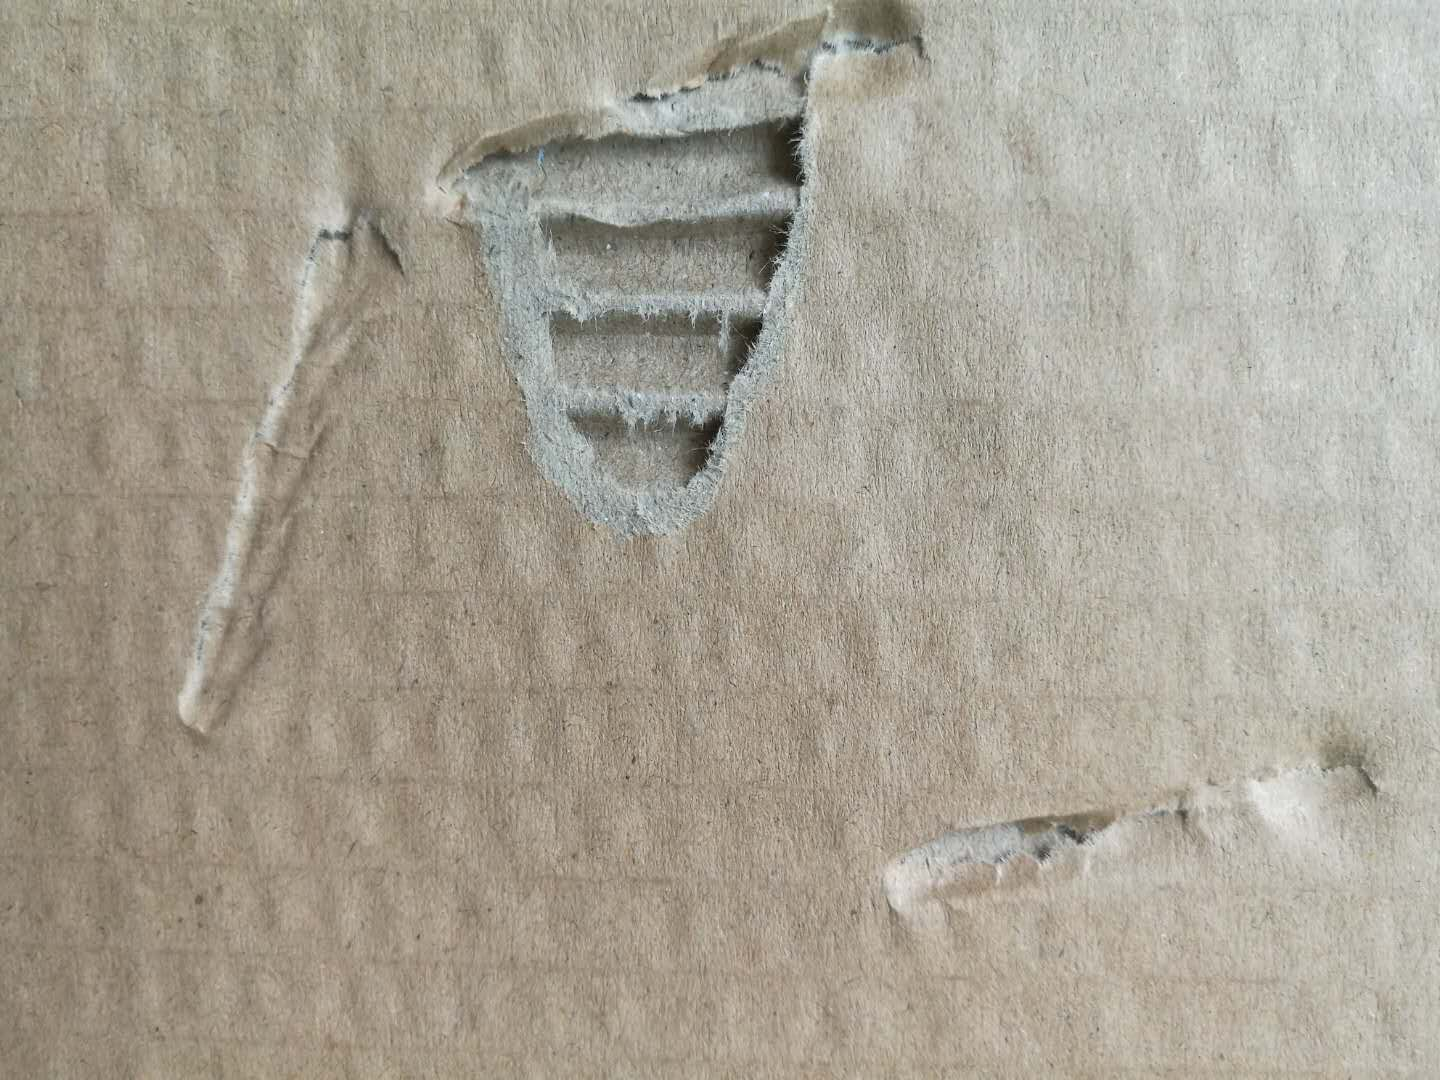defect: (403, 2, 956, 573), (164, 175, 422, 781), (841, 716, 1421, 940)
